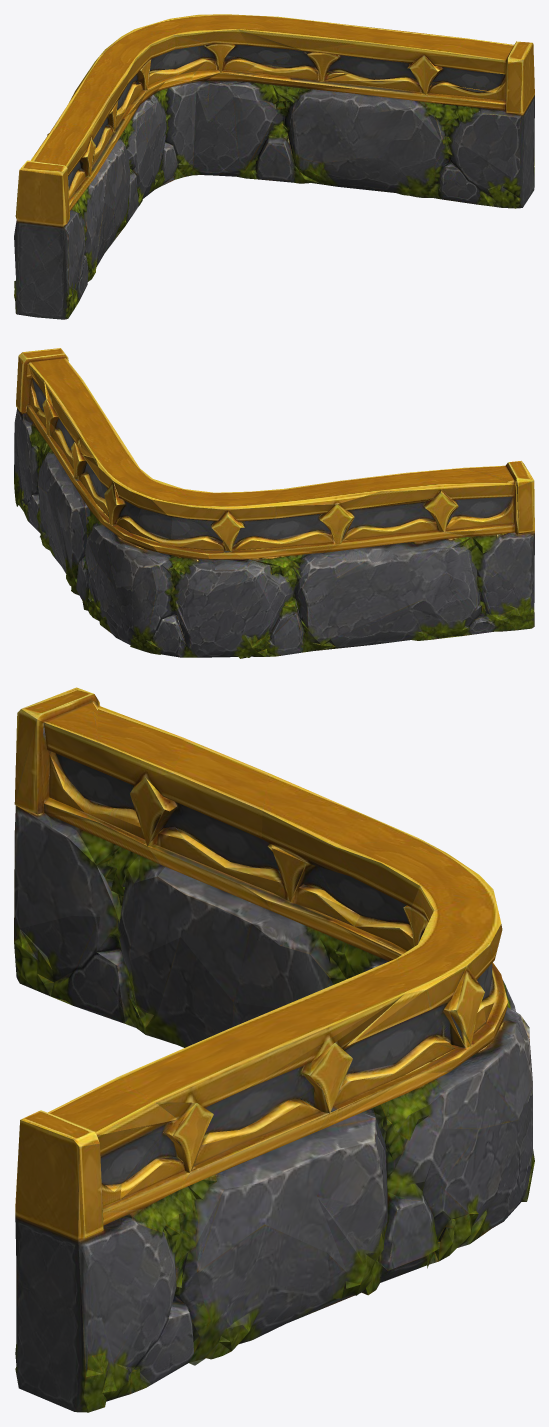
File: golf-wall-corner.glb
3 views of the same model, one above another, from view 1: azimuth 30°, elevation 25°; view 2: azimuth 150°, elevation 25°; view 3: azimuth 270°, elevation 25° (orthographic). The views are drawn at different scales.
Visible parts, largest first — view 1: output_unwrapped; view 2: output_unwrapped; view 3: output_unwrapped.
Boxes of the visible parts, x1,y1,x2,y2 form: output_unwrapped: [14, 14, 534, 319]; output_unwrapped: [14, 348, 534, 658]; output_unwrapped: [14, 687, 534, 1412].
Size of the model in its own units: 1.9 by 0.519 by 0.9024.
Materials: 1 (1 with a texture image).
